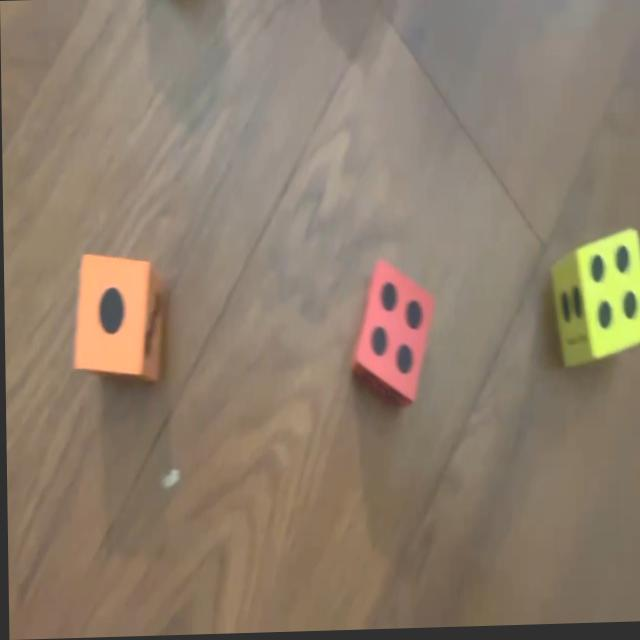cube: (349, 262, 435, 406)
